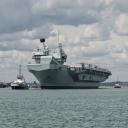Portanaves: (27, 33, 113, 92)
